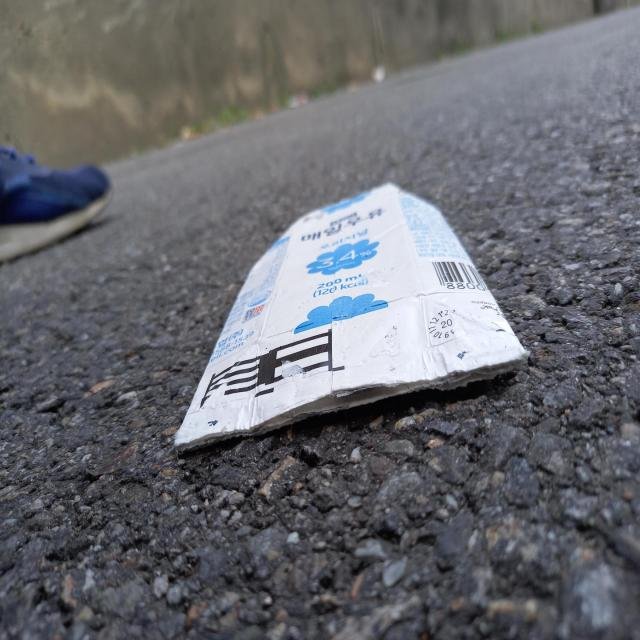paperpack: (174, 183, 529, 451)
